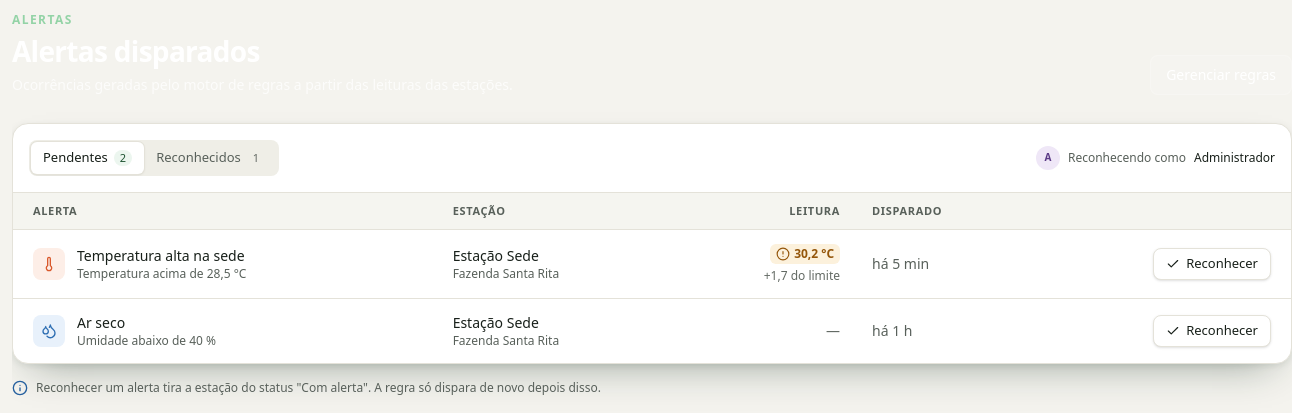
AlertsPage › mostra os reconhecidos com quem reconheceu
expect the text "Temperatura alta na sede" is shown: met, box left=77, top=246, right=246, bottom=266
Step 1. Click the radio button labelled "Reconhecidos 1" → [211, 158], box left=144, top=142, right=277, bottom=174
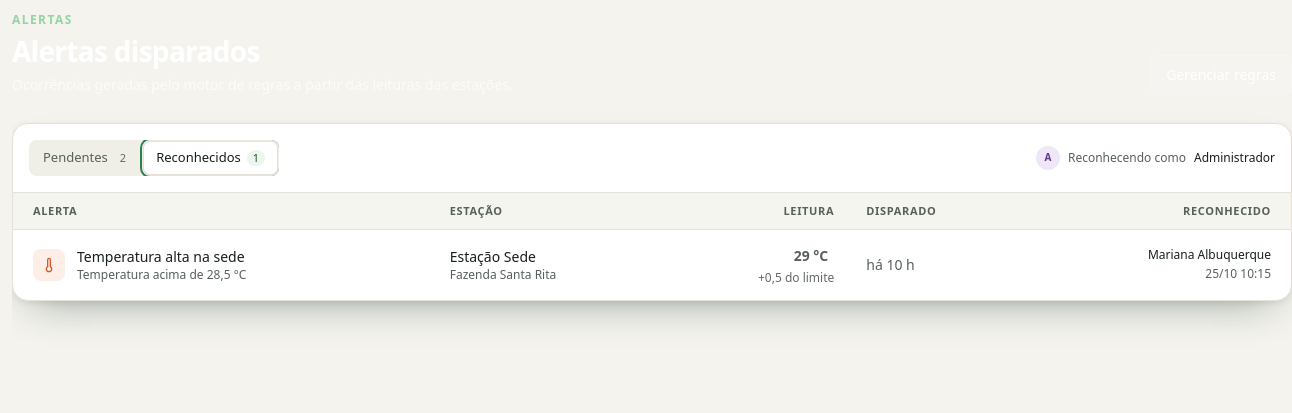
expect the text "Mariana Albuquerque" is shown: met, box left=1148, top=246, right=1271, bottom=263
expect the text "29 °C" is shown: met, box left=794, top=246, right=828, bottom=265
expect the button "Reconhecer" is gone: met
